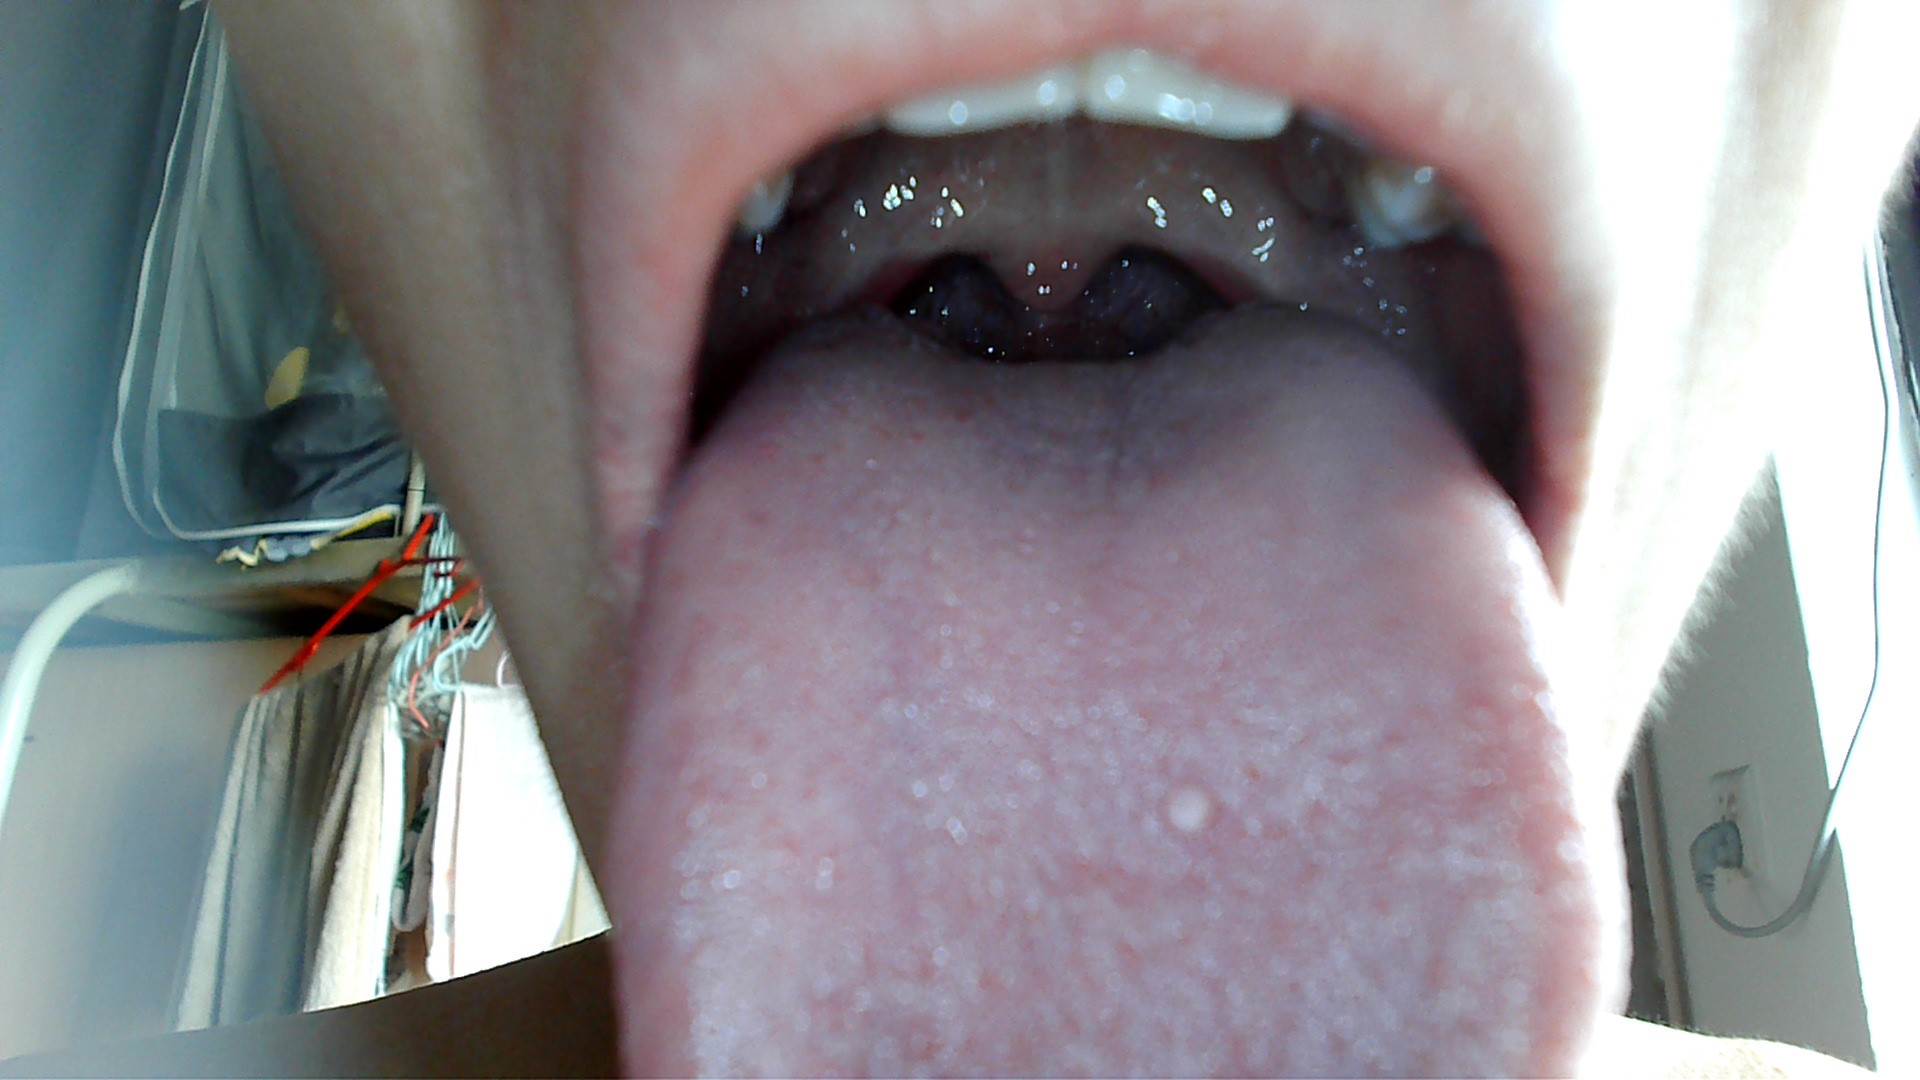throat: (1182, 208, 1317, 313), (778, 216, 918, 313)
